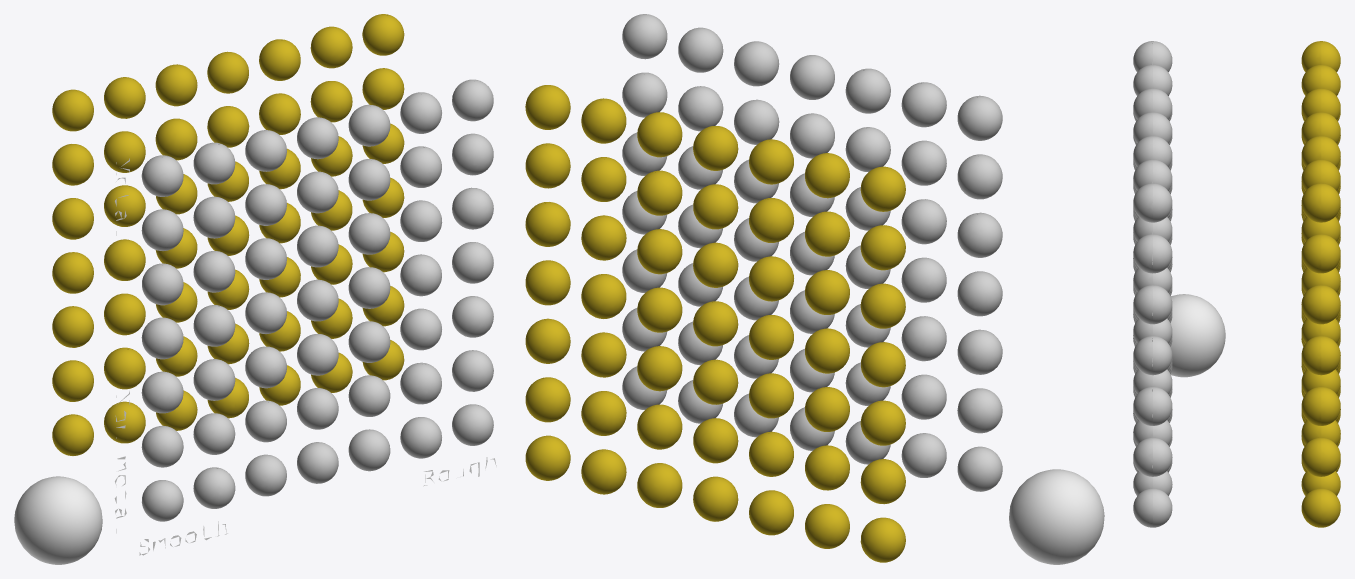
File: materials3.gltf
The picture shows the model from 3 angles, left to right: view 1: azimuth 30°, elevation 25°; view 2: azimuth 150°, elevation 25°; view 3: azimuth 270°, elevation 25°; orthographic projection. The views are drawn at different scales.
Visible parts, largest first — view 1: Sphere, m100%_r100%, m33%_r16%, m16%_r33%, m16%_r16%, m50%_r66%, m66%_r66%, m100%_r16%, m66%_r100%, g_m100%_r0%, g_m100%_r100%, g_m100%_r33% (+87 smaller); view 2: Sphere, g_m83%_r100%, g_m0%_r83%, m83%_r0%, m16%_r0%, g_m100%_r83%, g_m33%_r83%, g_m50%_r100%, g_m66%_r83%, g_m66%_r66%, g_m83%_r0%, m50%_r16% (+87 smaller); view 3: Sphere, g_m0%_r100%, m16%_r100%, g_m16%_r100%, g_m83%_r100%, m100%_r100%, m83%_r100%, g_m100%_r100%, g_m33%_r100%, g_m66%_r100%, m0%_r100%, m33%_r100% (+27 smaller).
Boxes of the visible parts, box(x1,y1,x2,y2) form: Sphere: box(14, 476, 102, 564); m100%_r100%: box(452, 79, 493, 121); m33%_r16%: box(193, 359, 235, 400); m16%_r33%: box(245, 400, 286, 442); m16%_r16%: box(193, 413, 235, 454); m50%_r66%: box(348, 267, 390, 308); m66%_r66%: box(348, 213, 390, 254); m100%_r16%: box(193, 142, 235, 184); m66%_r100%: box(452, 187, 493, 229); g_m100%_r0%: box(52, 89, 93, 131); g_m100%_r100%: box(362, 14, 404, 55); g_m100%_r33%: box(155, 64, 197, 106); Sphere: box(1009, 469, 1104, 564); g_m83%_r100%: box(525, 143, 570, 188); g_m0%_r83%: box(581, 449, 626, 494); m83%_r0%: box(957, 154, 1002, 199); m16%_r0%: box(957, 388, 1002, 433); g_m100%_r83%: box(581, 98, 626, 143); g_m33%_r83%: box(581, 332, 626, 377); g_m50%_r100%: box(525, 260, 570, 305); g_m66%_r83%: box(581, 215, 626, 260); g_m66%_r66%: box(637, 229, 682, 274); g_m83%_r0%: box(860, 225, 905, 270); m50%_r16%: box(901, 257, 946, 302); Sphere: box(1170, 294, 1225, 377); g_m0%_r100%: box(1301, 488, 1340, 527); m16%_r100%: box(1133, 437, 1172, 476); g_m16%_r100%: box(1301, 437, 1340, 476); g_m83%_r100%: box(1301, 234, 1340, 273); m100%_r100%: box(1133, 183, 1172, 222); m83%_r100%: box(1133, 234, 1172, 273); g_m100%_r100%: box(1301, 183, 1340, 222); g_m33%_r100%: box(1301, 386, 1340, 425); g_m66%_r100%: box(1301, 285, 1340, 324); m0%_r100%: box(1133, 488, 1172, 527); m33%_r100%: box(1133, 386, 1172, 425).
Bounding box in the file's own units: 11.98 × 10.08 × 4.98.
